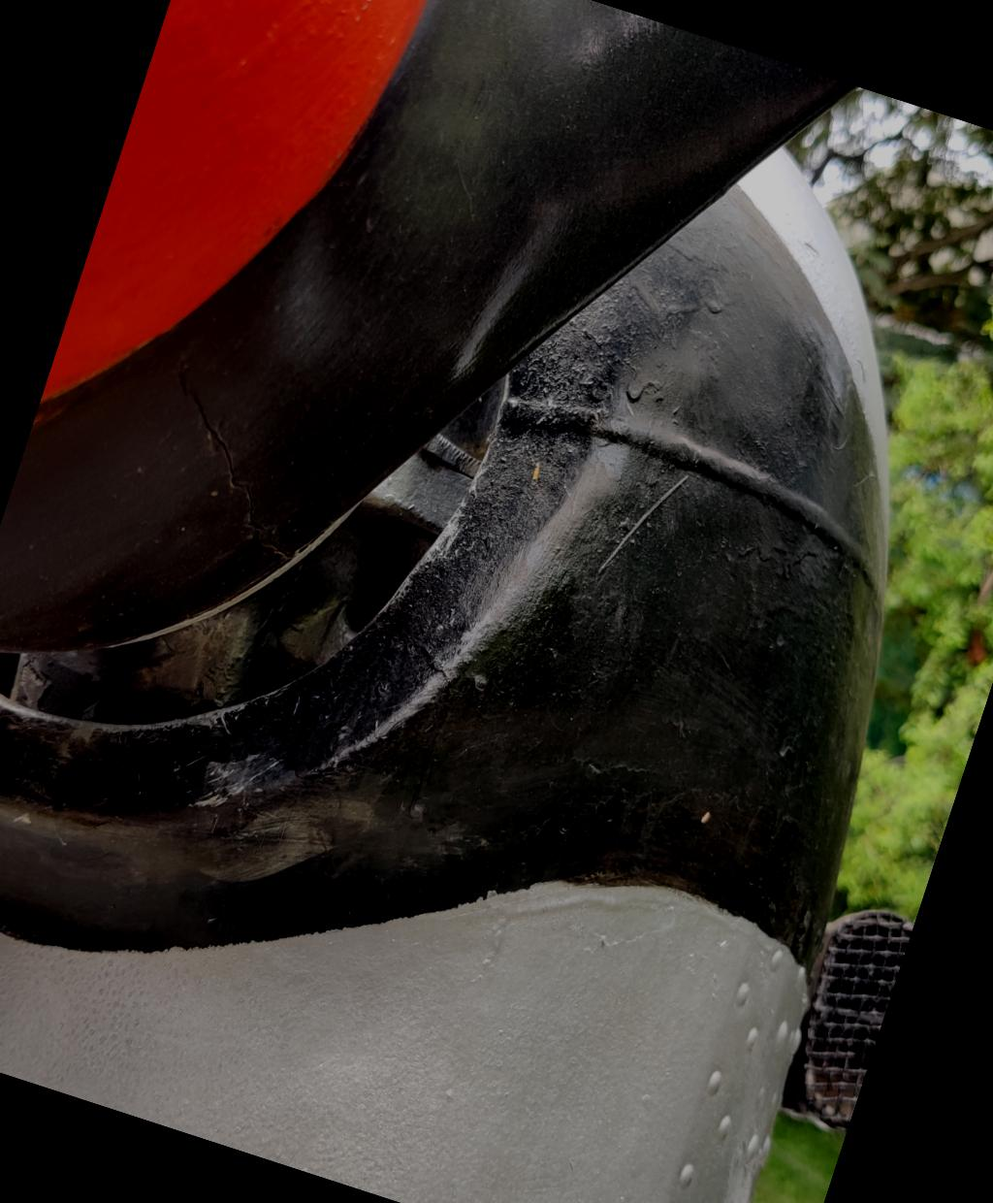crack: (104, 334, 356, 591)
